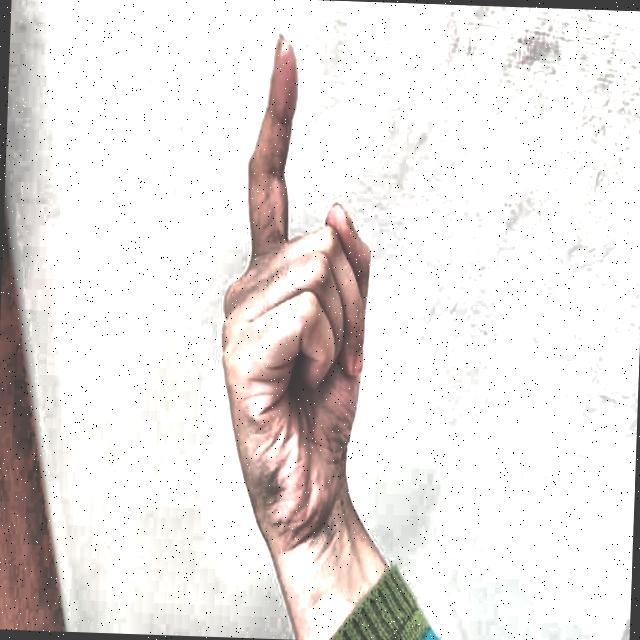U: (187, 19, 400, 559)
